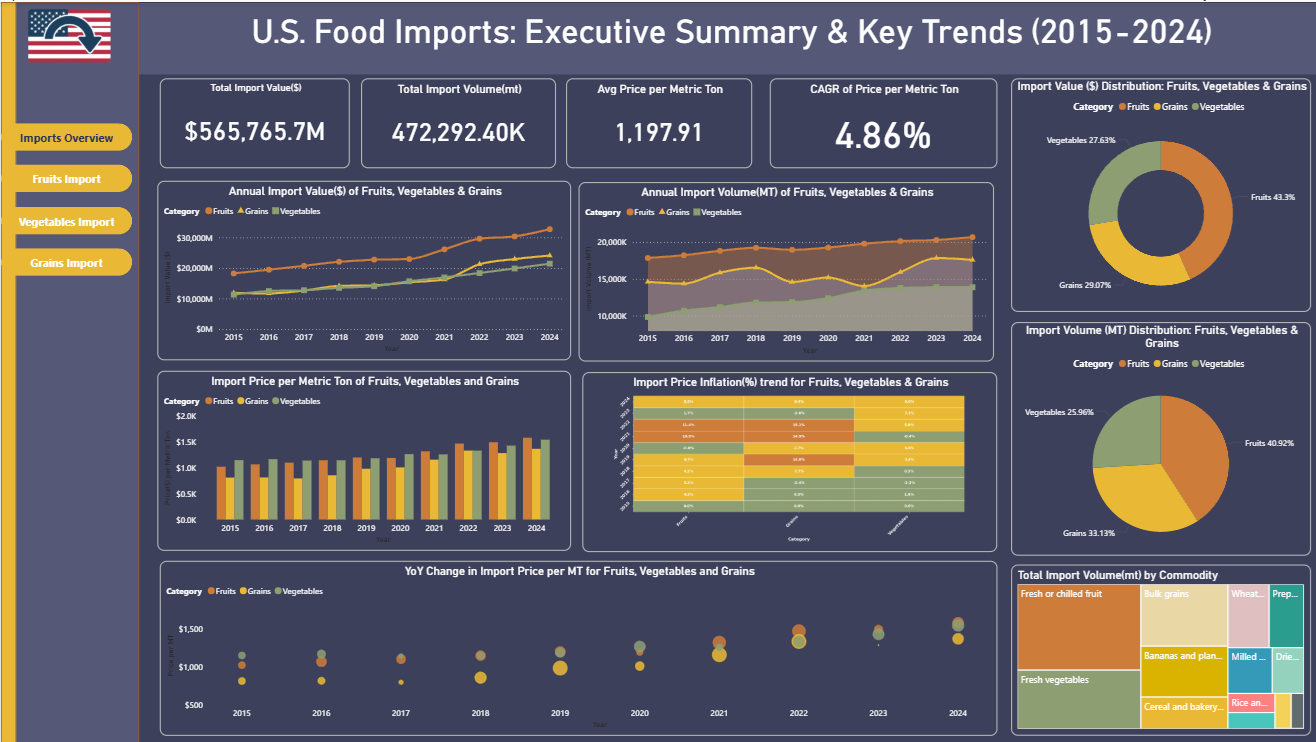

The dashboard page shown, as its layout file describes it:
{"tool":"powerbi","page":{"name":"Summary","canvas":[1920,1080],"ordinal":0},"visuals":[{"type":"actionButton","title":"Overview","box":[0,175.5,190,40],"z":0,"group":"g1"},{"type":"actionButton","title":"Fruits","box":[0,236,190,40],"z":1000,"group":"g1"},{"type":"lineChart","title":"Annual Import Value($) of Fruits, Vegetables & Grains","fields":{"Series":["US_FoodImports_Summary.Category"],"Category":["US_FoodImports_Summary.Year"],"Y":["Sum(US_FoodImports_Summary.FoodValue($))"]},"box":[226.8,259.5,599,260],"z":1000},{"type":"areaChart","title":"Annual Import Volume(MT) of Fruits, Vegetables & Grains","fields":{"Category":["US_FoodImports_Summary.Year"],"Y":["Sum(US_FoodImports_Summary.FoodVolume(mt))"],"Series":["US_FoodImports_Summary.Category"]},"box":[836.7,260,601.7,260],"z":2000},{"type":"actionButton","title":"Vegetables","box":[0,296.5,190,40],"z":2000,"group":"g1"},{"type":"actionButton","title":"Grians","box":[0,357,190,40],"z":3000,"group":"g1"},{"type":"clusteredColumnChart","title":"Import Price per Metric Ton of Fruits, Vegetables and Grains","fields":{"Category":["US_FoodImports_Summary.Year"],"Series":["US_FoodImports_Summary.Category"],"Y":["US_FoodImports_Summary.Price per MT"]},"box":[226.3,534.3,599,260.6],"z":3000},{"type":"pythonVisual","title":"Import Price Inflation(%) trend for Fruits, Vegetables & Grains","fields":{"Values":["US_FoodImports_Summary.Year","US_FoodImports_Summary.Category","US_FoodImports_Summary.Inflation(%)"]},"box":[840.8,535.8,600.9,261.1],"z":4000},{"type":"card","title":"Total Import Value($)","fields":{"Values":["Sum(US_FoodImports_Summary.FoodValue($))"]},"box":[229.8,110.9,275.1,130.3],"z":5000},{"type":"card","title":"Total Import Volume(mt)","fields":{"Values":["Sum(US_FoodImports_Summary.FoodVolume(mt))"]},"box":[521.1,110.9,282.3,130.3],"z":6000},{"type":"card","title":"Avg Price per Metric Ton","fields":{"Values":["US_FoodImports_Summary.Price per MT"]},"box":[817.9,110.9,269.6,130.3],"z":7000},{"type":"pieChart","title":"Import Volume (MT) Distribution: Fruits, Vegetables & Grains","fields":{"Category":["US_FoodImports_Summary.Category"],"Y":["Sum(US_FoodImports_Summary.FoodVolume(mt))"]},"box":[1462.2,463.3,434.3,338.4],"z":8000},{"type":"scatterChart","title":"YoY Change in Import Price per MT for Fruits, Vegetables and Grains","fields":{"Series":["US_FoodImports_Summary.Category"],"X":["US_FoodImports_Summary.Year"],"Y":["US_FoodImports_Summary.Price per MT"],"Size":["US_FoodImports_Summary.Inflation(%)"]},"box":[229.6,808.5,1212.7,253.5],"z":9000},{"type":"treemap","title":"Total Import Volume(mt) by Commodity","fields":{"Group":["US_FoodImports_Summary.Commodity"],"Values":["Sum(US_FoodImports_Summary.FoodVolume(mt))"]},"box":[1462,814,434,248],"z":10000},{"type":"card","title":"CAGR of  Price per Metric Ton","fields":{"Values":["US_FoodImports_Summary.CAGR"]},"box":[1113.3,110.5,329.4,130.3],"z":11000},{"type":"donutChart","title":"Import Value ($) Distribution: Fruits, Vegetables & Grains","fields":{"Category":["US_FoodImports_Summary.Category"],"Y":["Sum(US_FoodImports_Summary.FoodValue($))"]},"box":[1462.2,110.4,434.3,338.4],"z":12000},{"type":"shape","box":[190,1.7,1730,95],"z":13000},{"type":"textbox","title":"U.S. Food Imports: Executive Summary & Key Trends (2015-2024)","box":[195.1,15,1724.6,90],"z":13500},{"type":"shape","box":[0,0,200,1080.4],"z":14000},{"type":"shape","box":[0,0,22,1081],"z":15000},{"type":"group","id":"g1","title":"Pages","box":[0,175.5,190,221.5],"z":16000},{"type":"image","box":[35,1.7,130,95],"z":17000}]}

Visuals, with their boxes in screenshot pixels (x1, y1, x2, y2), scaled from the page's 1920x1080 canvas onto the 1316x742 screenshot:
"Overview" actionButton: <box>0,121,130,148</box>
"Fruits" actionButton: <box>0,162,130,190</box>
"Annual Import Value($) of Fruits, Vegetables & Grains" lineChart: <box>155,178,566,357</box>
"Annual Import Volume(MT) of Fruits, Vegetables & Grains" areaChart: <box>573,179,986,357</box>
"Vegetables" actionButton: <box>0,204,130,231</box>
"Grians" actionButton: <box>0,245,130,273</box>
"Import Price per Metric Ton of Fruits, Vegetables and Grains" clusteredColumnChart: <box>155,367,566,546</box>
"Import Price Inflation(%) trend for Fruits, Vegetables & Grains" pythonVisual: <box>576,368,988,547</box>
"Total Import Value($)" card: <box>158,76,346,166</box>
"Total Import Volume(mt)" card: <box>357,76,551,166</box>
"Avg Price per Metric Ton" card: <box>561,76,745,166</box>
"Import Volume (MT) Distribution: Fruits, Vegetables & Grains" pieChart: <box>1002,318,1300,551</box>
"YoY Change in Import Price per MT for Fruits, Vegetables and Grains" scatterChart: <box>157,555,989,730</box>
"Total Import Volume(mt) by Commodity" treemap: <box>1002,559,1300,730</box>
"CAGR of  Price per Metric Ton" card: <box>763,76,989,165</box>
"Import Value ($) Distribution: Fruits, Vegetables & Grains" donutChart: <box>1002,76,1300,308</box>
shape: <box>130,1,1315,66</box>
"U.S. Food Imports: Executive Summary & Key Trends (2015-2024)" textbox: <box>134,10,1315,72</box>
shape: <box>0,0,137,741</box>
shape: <box>0,0,15,741</box>
"Pages" group: <box>0,121,130,273</box>
image: <box>24,1,113,66</box>
